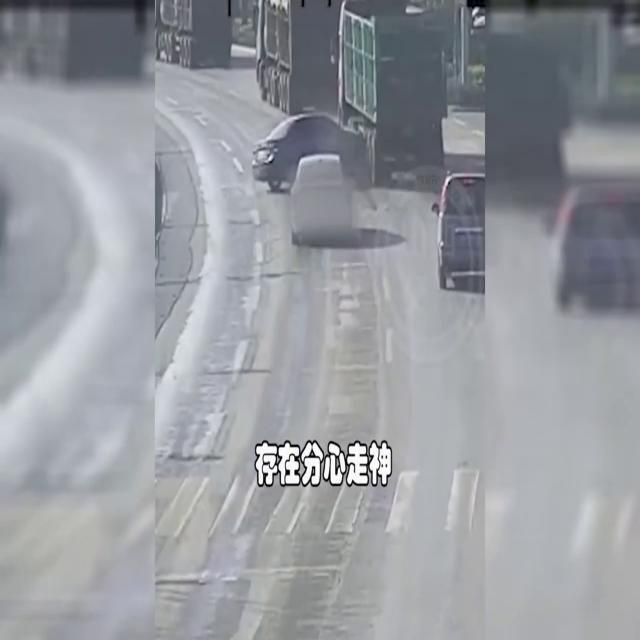accident: (251, 5, 443, 188)
